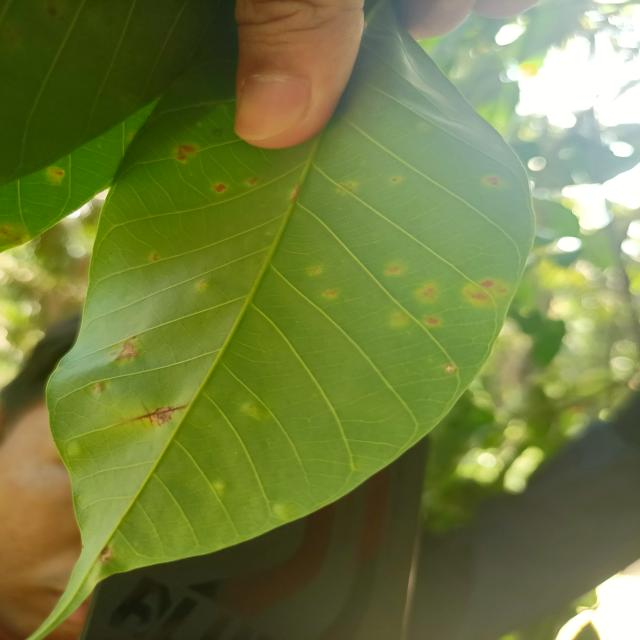Corynespora: (128, 403, 191, 426)
